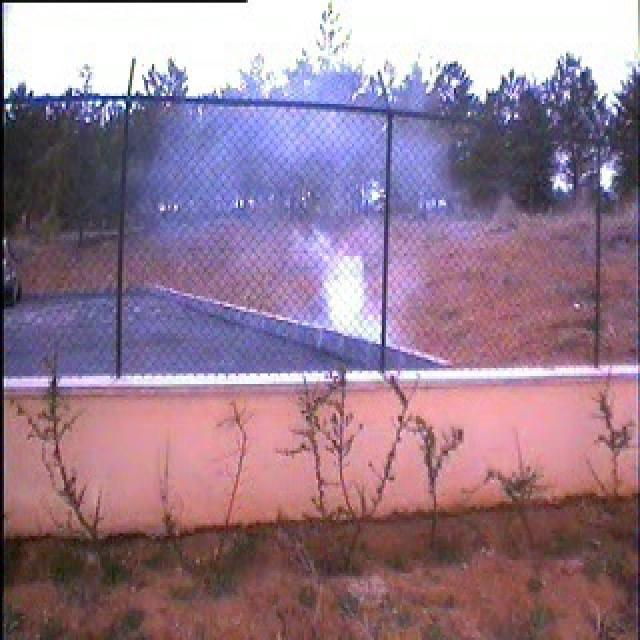Smoke: (140, 49, 447, 354)
